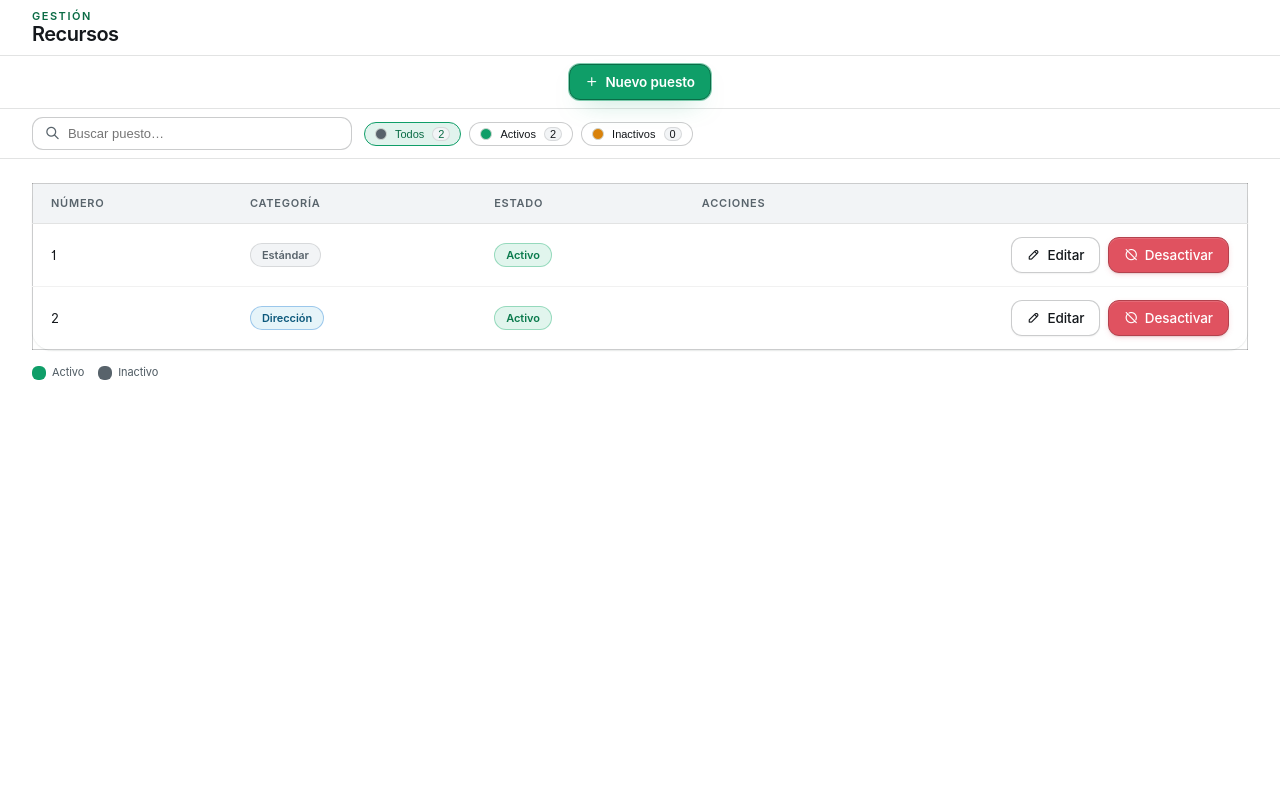
DesksPage › should_open_edit_form_prefilled_when_clicking_edit
Click the button "Editar" in the row of "Estándar": coordinates (1056, 255) [1011,237,1100,273]
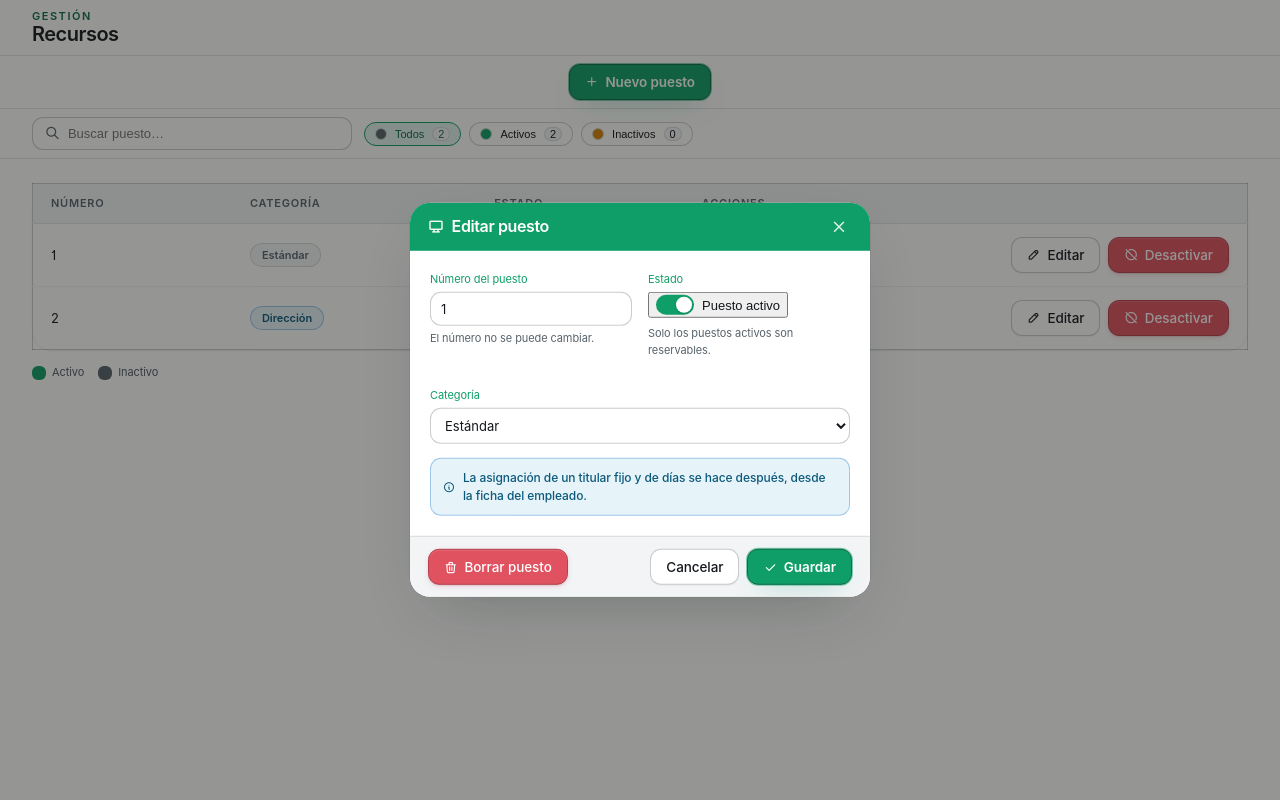
Expected: the number field labelled "Número del puesto" holds "1", [430,292,632,326]
